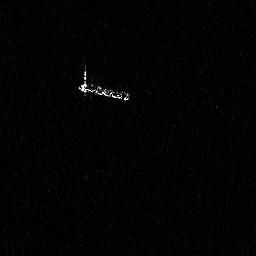ship: (77, 64, 132, 103)
